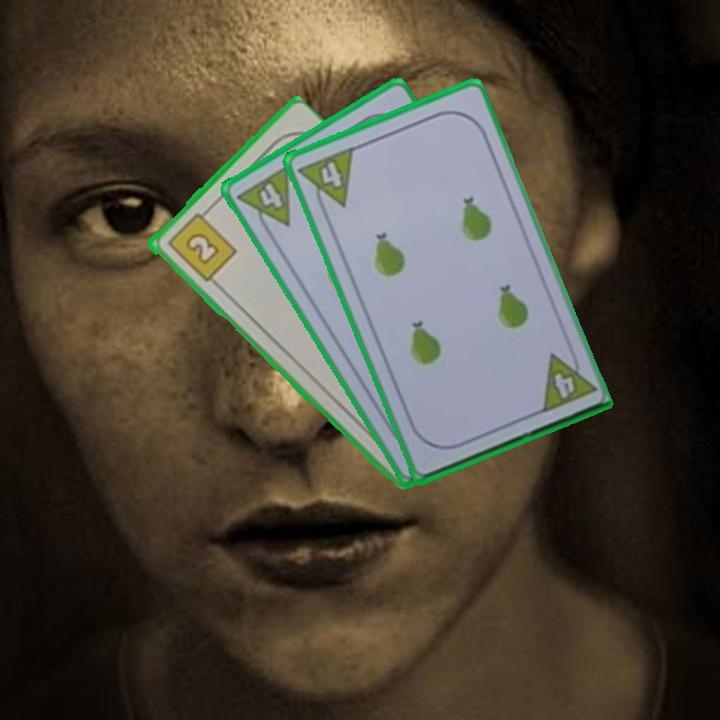2b: (163, 204, 239, 285)
4p: (233, 161, 293, 240), (535, 343, 598, 417), (294, 143, 356, 217)
